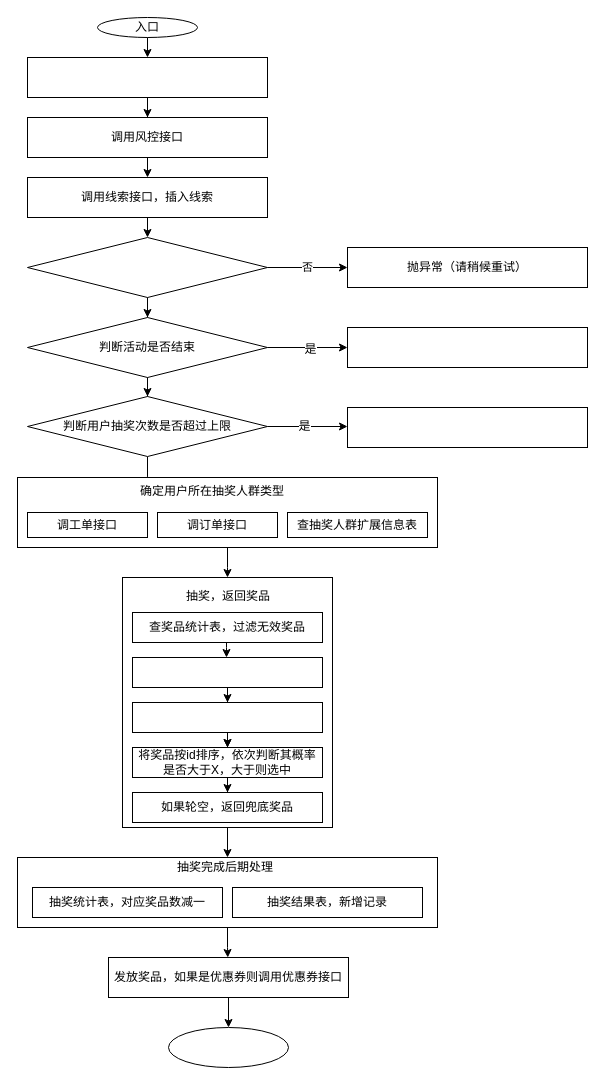
The diagram is 605 pixels wide and 1085 high, and some of its shapes have lost their labels. Each missing label, with the centre of its shape:
在1～概率和之间取随机数X: the point at 227,717
抛异常（抽奖次数已经超限）: the point at 467,427
抛异常（活动已结束、活动未开始）: the point at 467,347
查奖品概率表，统计每个奖品的概率，并将概率累加: the point at 227,672
检查上次抽奖活动是否结束: the point at 147,267
调用User接口，获取抽奖用户token: the point at 147,77
返回: the point at 228,1047
